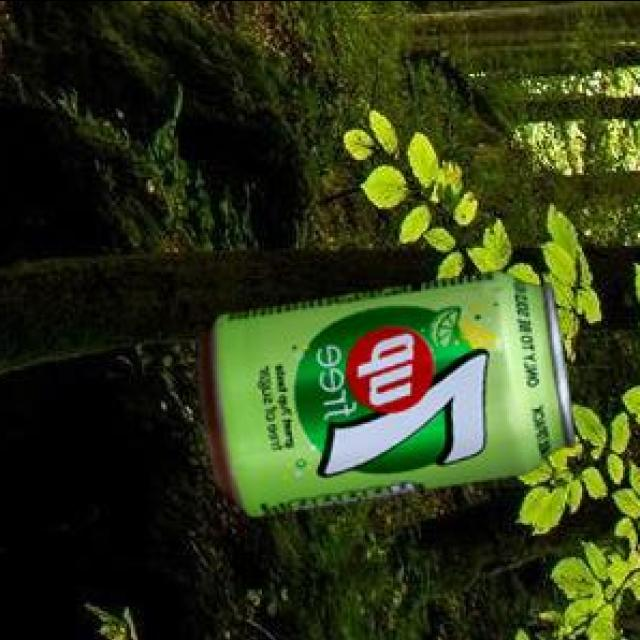logam: (201, 274, 577, 519)
